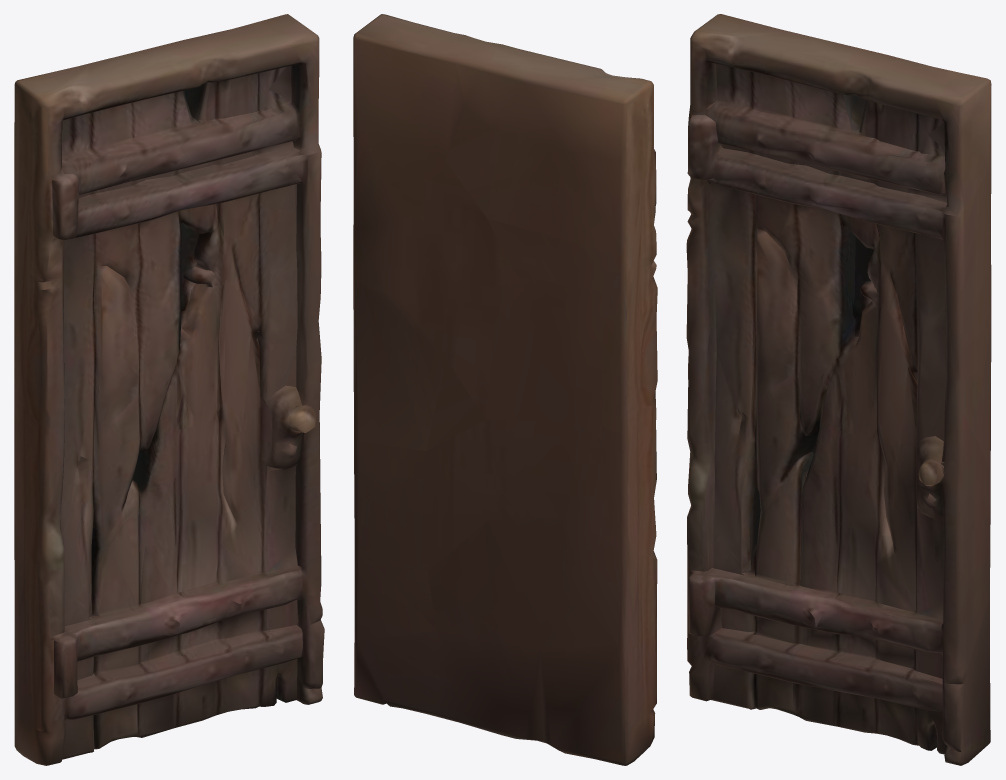
The model's file is door_1.glb.
The picture shows the model from 3 angles, left to right: view 1: azimuth 30°, elevation 25°; view 2: azimuth 150°, elevation 25°; view 3: azimuth 330°, elevation 25°; orthographic projection.
Parts seen in each view (by area): view 1: door; view 2: door; view 3: door.
Part boxes in pixels (x1,y1,x2,y2): door: [14, 14, 324, 765]; door: [353, 14, 657, 765]; door: [686, 14, 991, 765].
Size of the model in its own units: 0.9125 by 2.1 by 0.2445.
1 material, 1 textured.
